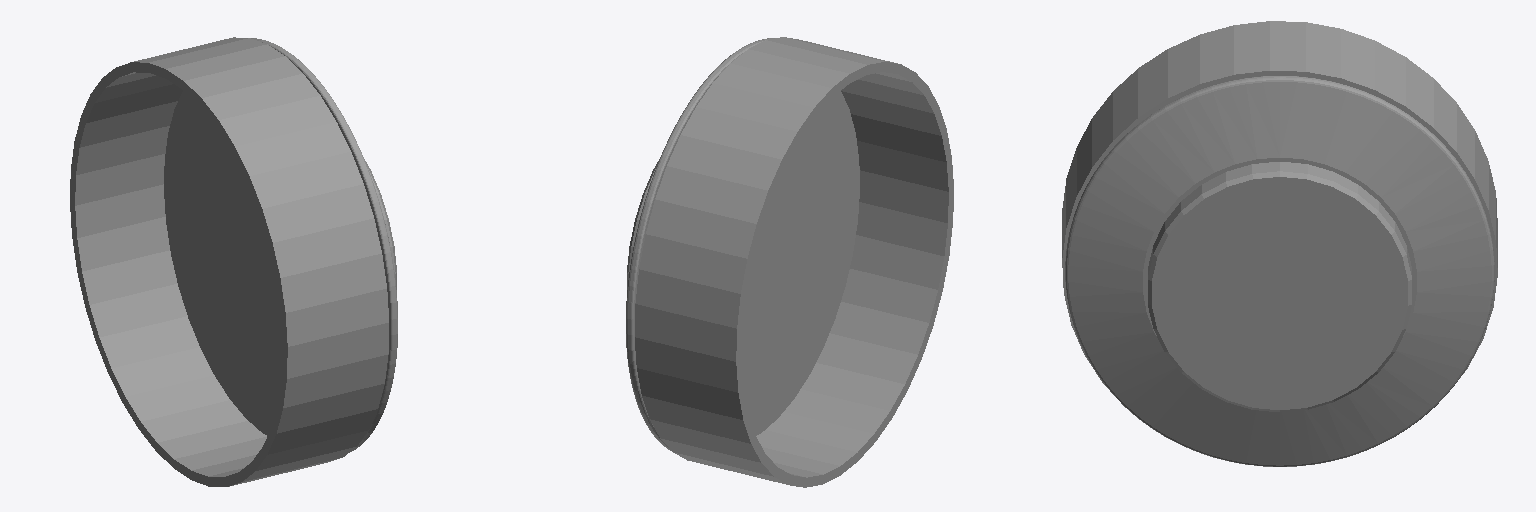
The model's file is wrist_roll_link.obj.
3 views of the same model, side by side, from view 1: azimuth 30°, elevation 25°; view 2: azimuth 150°, elevation 25°; view 3: azimuth 270°, elevation 25° (orthographic).
Visible parts, largest first — view 1: wrist_roll_link_wrist_roll_link; view 2: wrist_roll_link_wrist_roll_link; view 3: wrist_roll_link_wrist_roll_link.
Boxes of the visible parts, <box> form: wrist_roll_link_wrist_roll_link: <box>70,37,397,486</box>; wrist_roll_link_wrist_roll_link: <box>626,37,953,487</box>; wrist_roll_link_wrist_roll_link: <box>1062,21,1497,466</box>.
Size of the model in its own units: 0.0425 by 0.1039 by 0.1039.